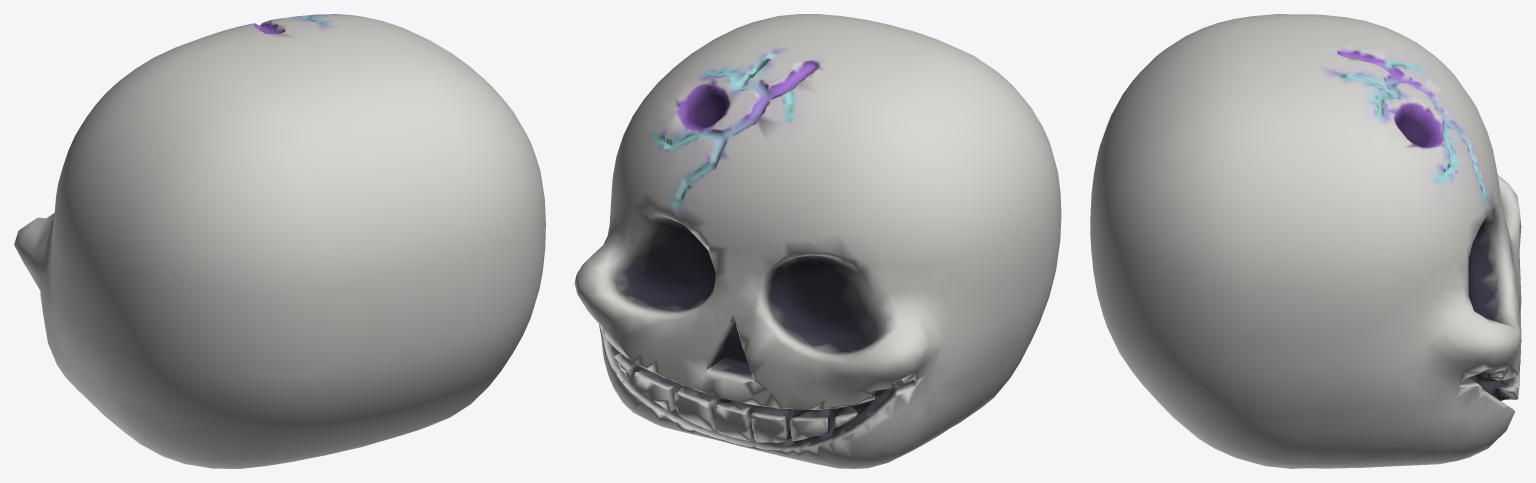
Rendered from SansSkullEclipse.glb.
The picture shows the model from 3 angles, left to right: view 1: azimuth 30°, elevation 25°; view 2: azimuth 150°, elevation 25°; view 3: azimuth 270°, elevation 25°; orthographic projection. The views are drawn at different scales.
Parts seen in each view (by area): view 1: SansSkullEclipse; view 2: SansSkullEclipse; view 3: SansSkullEclipse.
Part boxes in pixels (left/top/right/bottom): SansSkullEclipse: left=14, top=14, right=545, bottom=468; SansSkullEclipse: left=574, top=14, right=1061, bottom=468; SansSkullEclipse: left=1090, top=14, right=1521, bottom=468.
Size of the model in its own units: 2.05 by 1.78 by 1.89.
